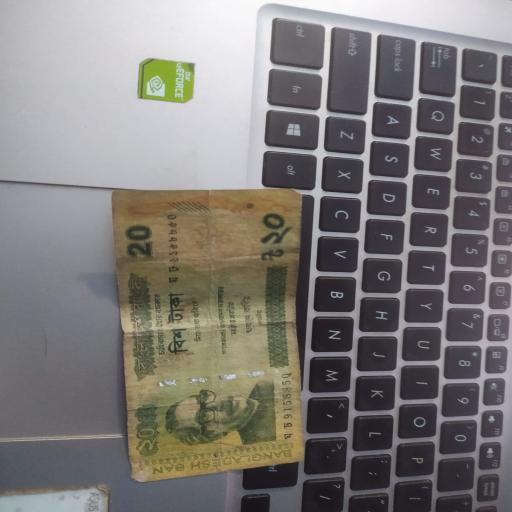20taka: (107, 188, 308, 486)
